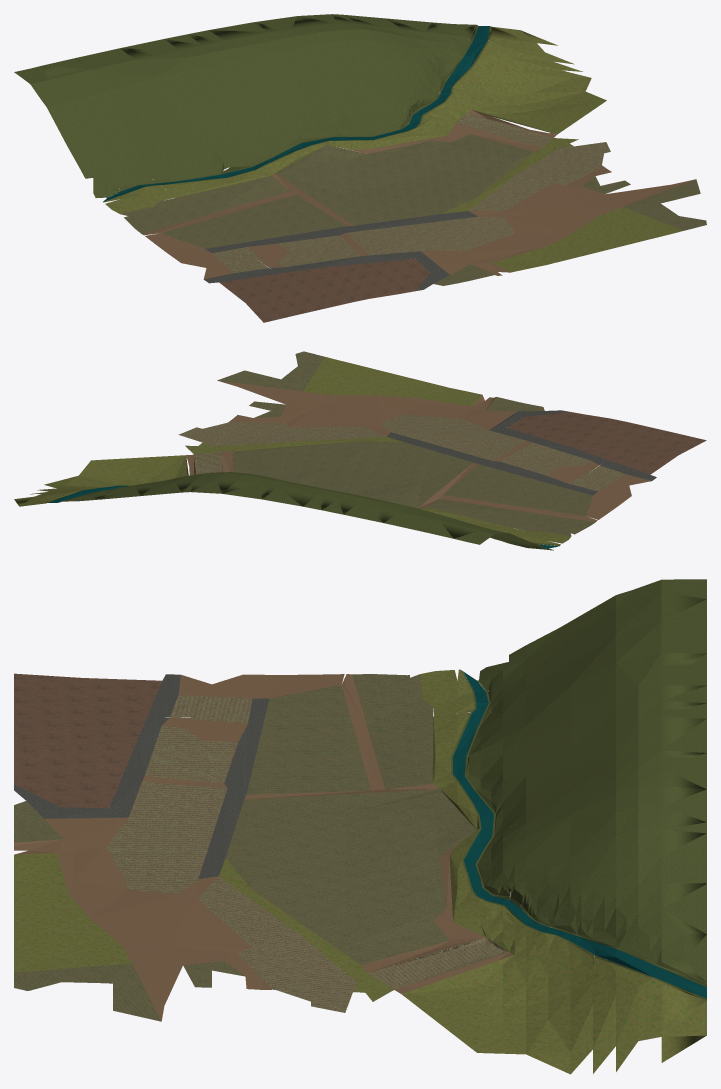
The model's file is TerrenoSoldadoSinTexturas3.fbx.
3 renders of one model, top to bottom at view 1: azimuth 30°, elevation 25°; view 2: azimuth 150°, elevation 25°; view 3: azimuth 270°, elevation 25°, orthographic. The views are drawn at different scales.
Parts seen in each view (by area): view 1: lagua.001; view 2: lagua.001; view 3: lagua.001.
Part boxes in pixels (bbox=[...]): lagua.001: bbox=[14, 14, 706, 322]; lagua.001: bbox=[14, 351, 706, 550]; lagua.001: bbox=[14, 579, 706, 1074].
Size of the model in its own units: 42780 by 7643 by 35000.
